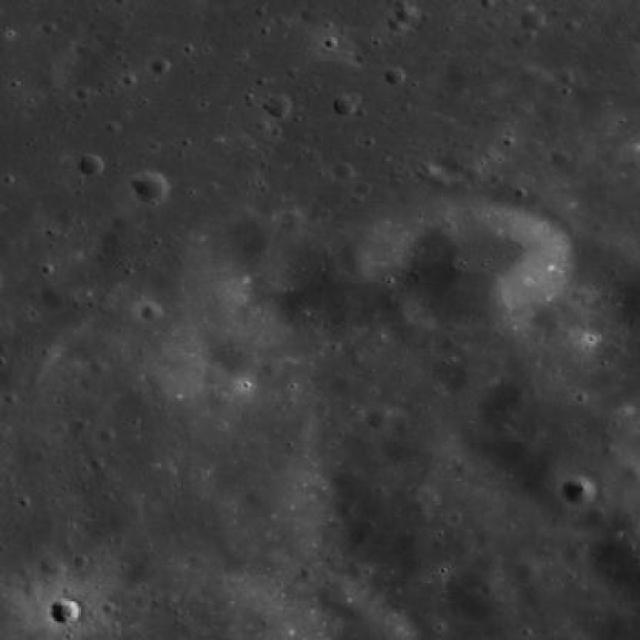crater: (315, 422, 497, 578), (406, 198, 563, 334), (100, 202, 200, 287), (0, 322, 54, 396), (449, 567, 514, 624), (436, 344, 490, 390), (319, 574, 370, 617), (134, 172, 171, 203), (562, 476, 598, 507), (50, 598, 82, 626), (342, 252, 372, 278), (338, 335, 367, 360), (368, 408, 396, 432), (280, 207, 306, 230), (516, 562, 542, 584), (520, 8, 546, 30), (266, 96, 292, 118), (78, 156, 105, 177), (332, 95, 357, 116), (141, 303, 164, 323), (333, 374, 356, 394), (586, 508, 608, 528), (396, 6, 419, 25), (42, 555, 64, 574), (432, 175, 454, 194), (384, 66, 406, 85), (508, 30, 528, 48), (89, 358, 108, 376), (23, 580, 43, 597), (264, 360, 284, 377), (334, 163, 354, 180), (152, 58, 172, 74), (553, 150, 572, 166), (562, 546, 581, 562)
